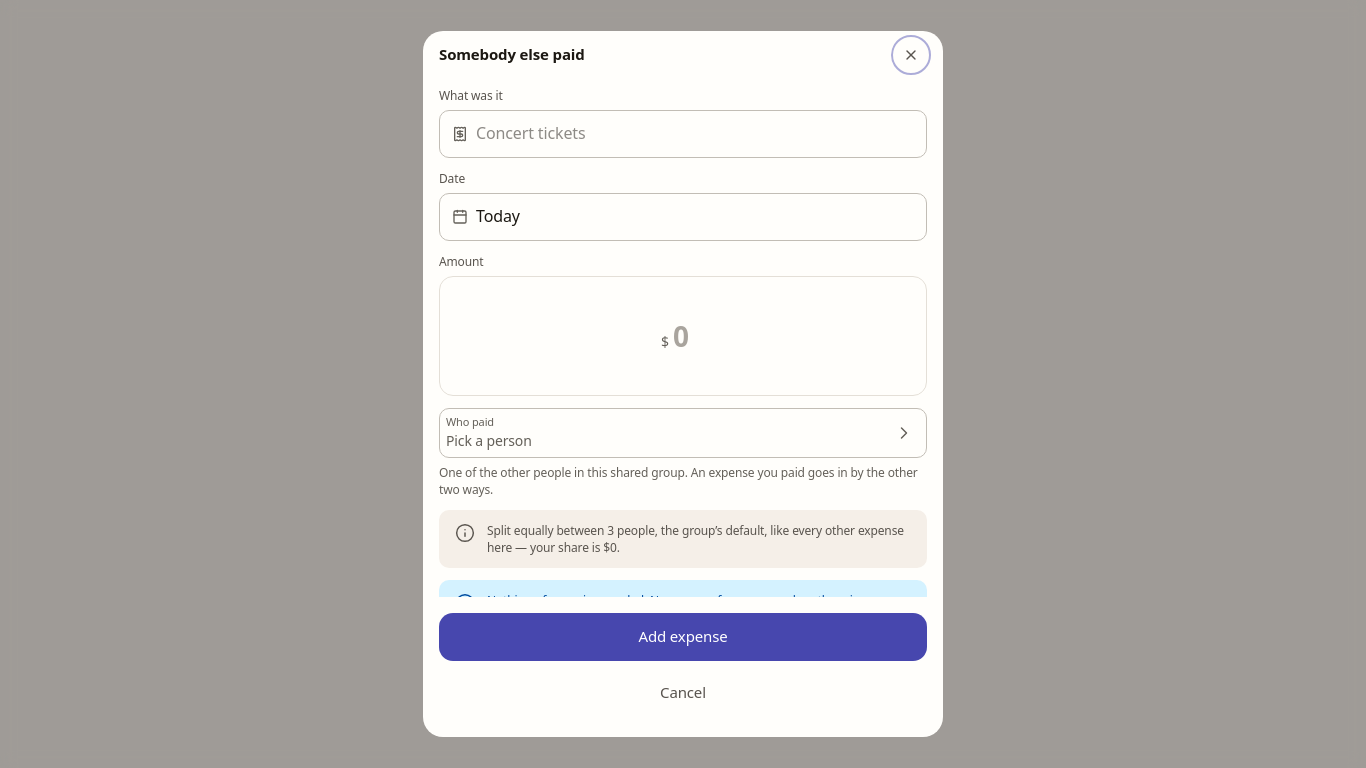
it: recording a line somebody else paid › offers only the other people in the group
Click the button "Who paid Pick a person" at (470,422), box x1=439 y1=408 x2=927 y2=458
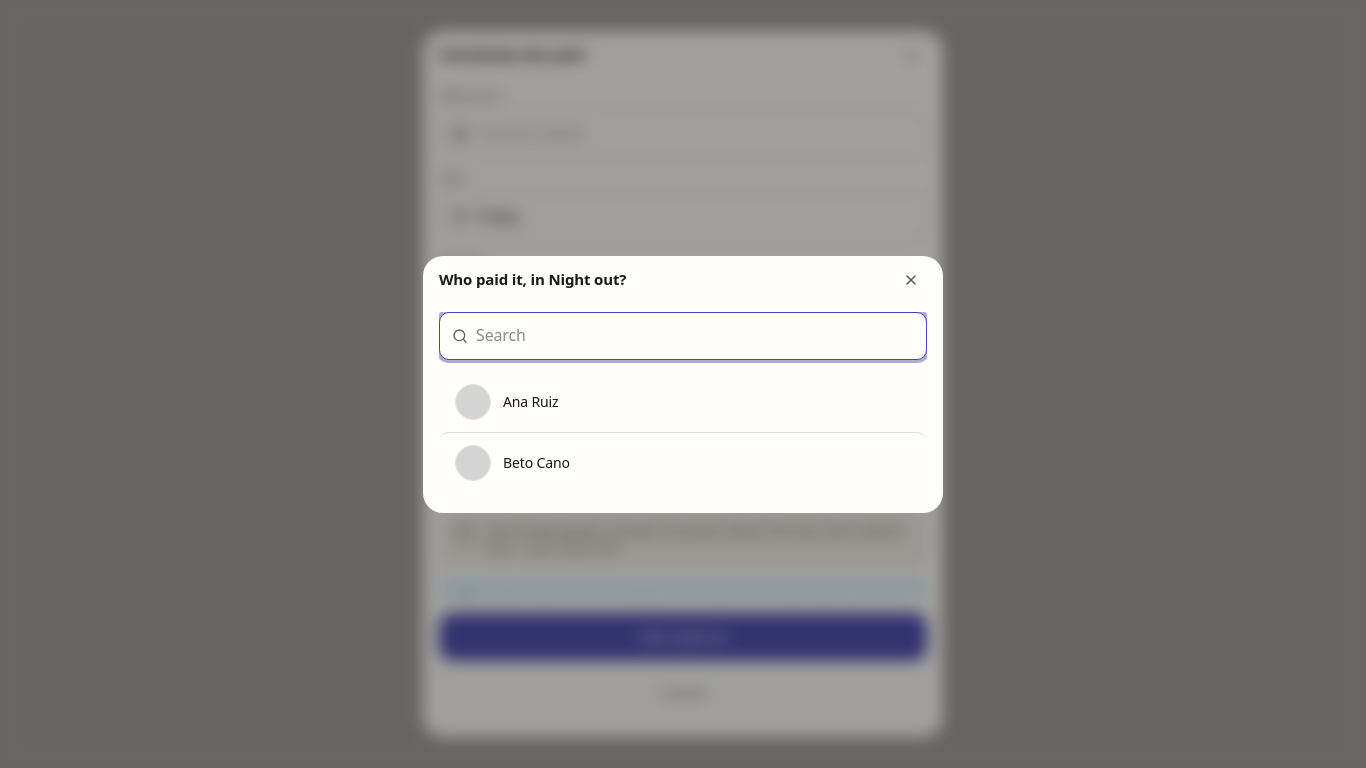
Result: the option "Ana Ruiz" is shown at x1=439 y1=372 x2=927 y2=432
Result: the number of options is 2 at x1=439 y1=372 x2=927 y2=432; x1=439 y1=432 x2=927 y2=492
